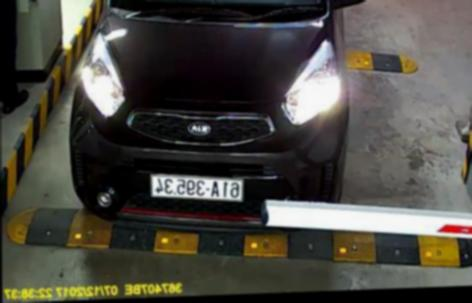License_Plate: (146, 171, 249, 206)
